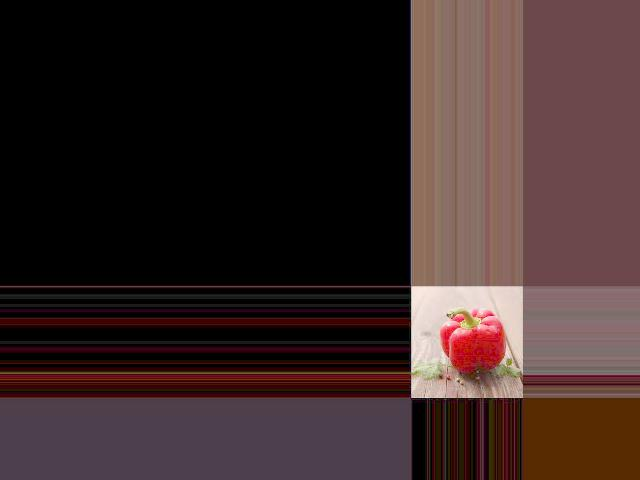bell_pepper: (436, 302, 510, 374)
